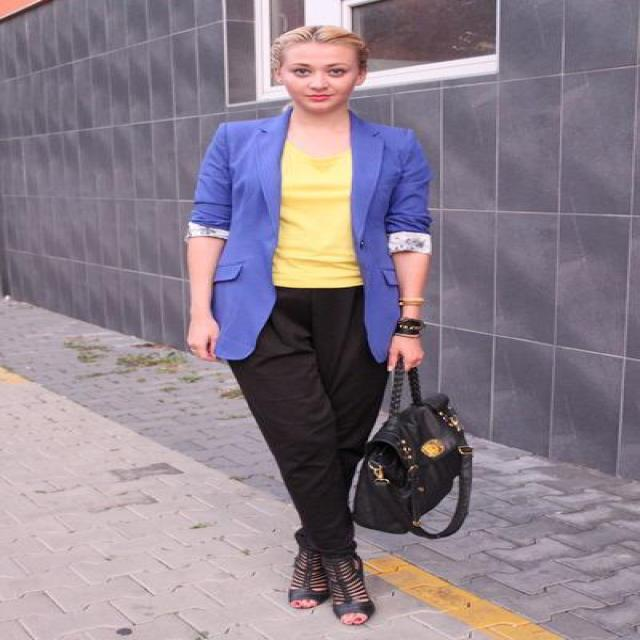bag: (334, 374, 472, 538)
jacket: (186, 115, 430, 380)
pants: (227, 285, 402, 572)
shirt: (272, 143, 362, 287)
shoe: (288, 546, 374, 625)
